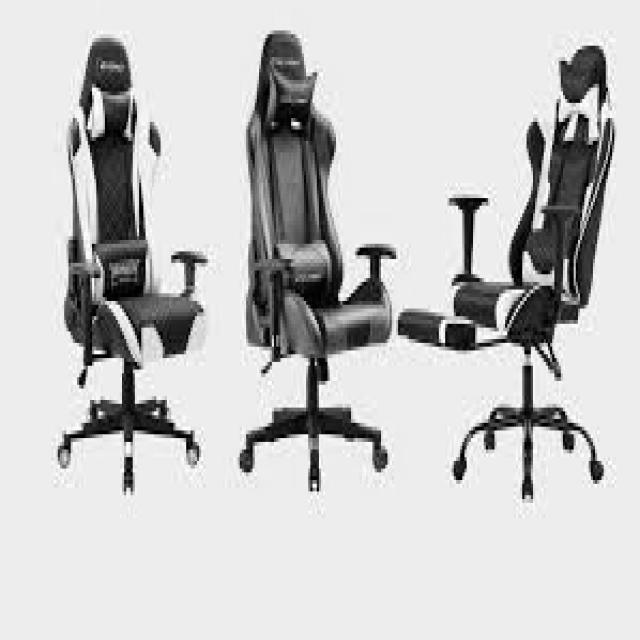chair: (445, 42, 615, 506), (236, 26, 396, 496), (55, 33, 208, 499)
